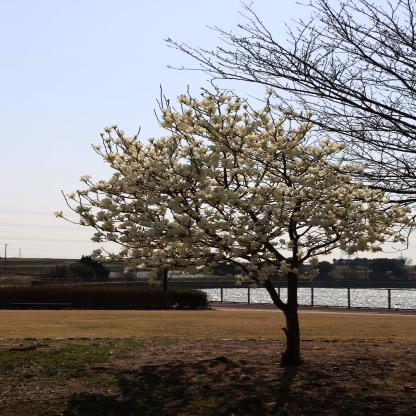Mokuren: (57, 85, 416, 286)
